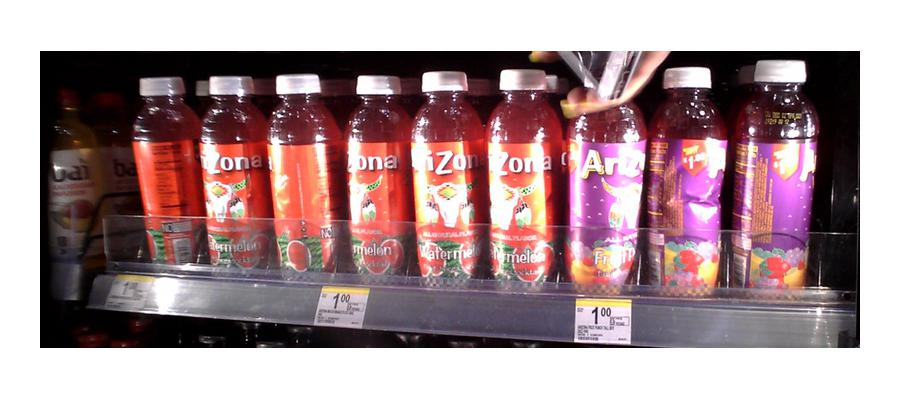bottle: (732, 58, 815, 293), (564, 66, 645, 292), (651, 60, 724, 295), (486, 64, 559, 294), (268, 68, 341, 281), (412, 66, 481, 289), (199, 69, 268, 280), (346, 71, 408, 283), (132, 73, 198, 270)
